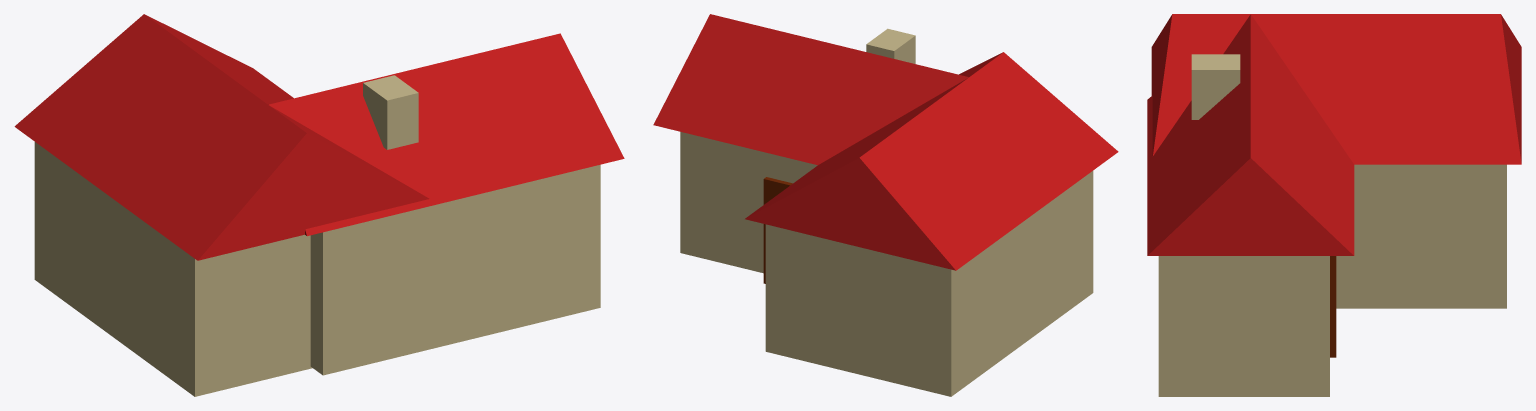
Rendered from house1.FBX.
3 renders of one model, left to right at view 1: azimuth 30°, elevation 25°; view 2: azimuth 150°, elevation 25°; view 3: azimuth 270°, elevation 25°, orthographic. The views are drawn at different scales.
Parts seen in each view (by area): view 1: Cube.002; view 2: Cube.002; view 3: Cube.002.
Part boxes in pixels (box(x1,y1,x2,y2)): Cube.002: box(14, 14, 624, 396); Cube.002: box(653, 14, 1118, 396); Cube.002: box(1147, 14, 1521, 396).
Bounding box in the file's own units: 47.58 × 26.94 × 35.99.
